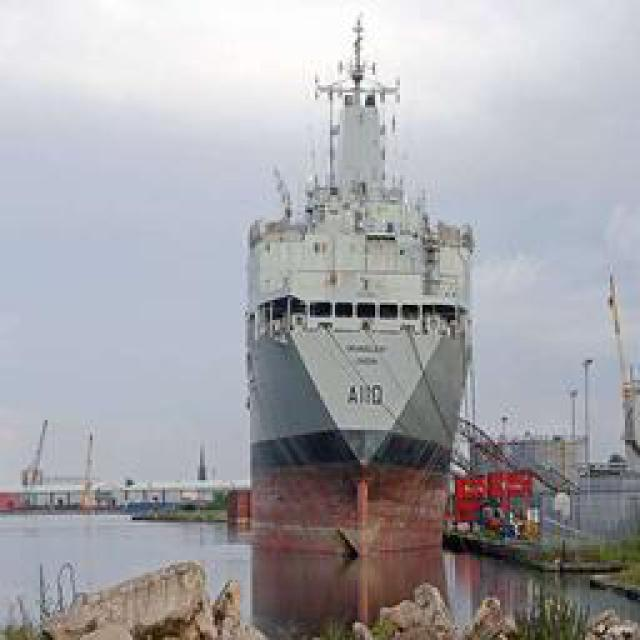Ship: (235, 45, 470, 562)
